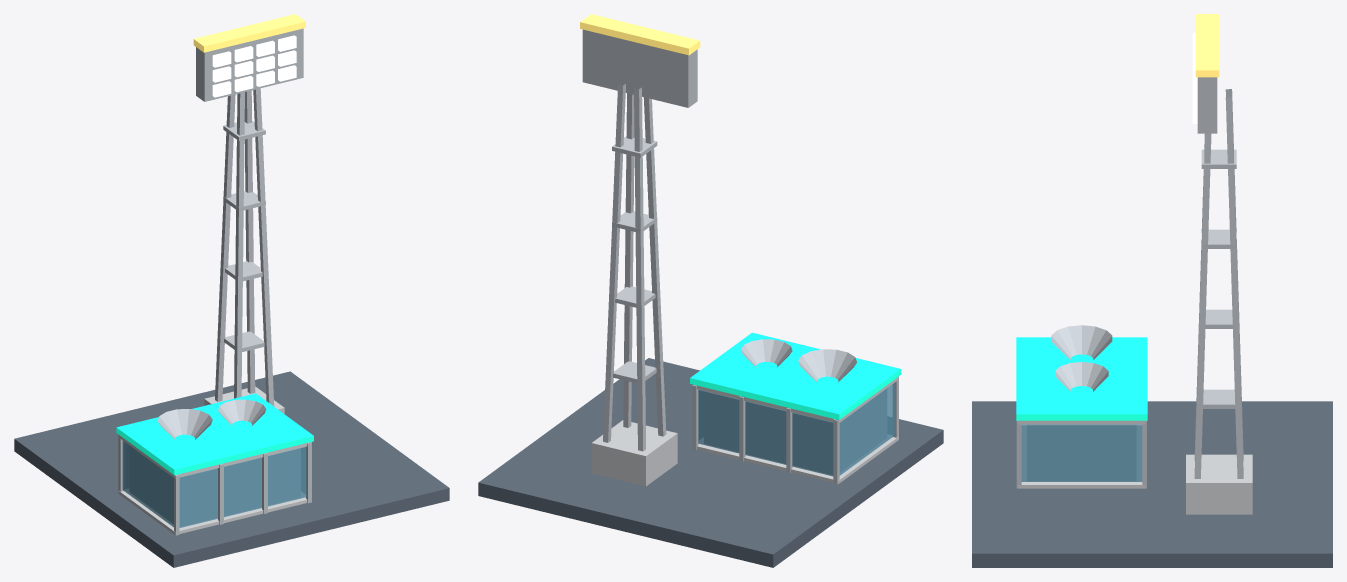
File: floodlight_tower.glb
3 renders of one model, left to right at view 1: azimuth 30°, elevation 25°; view 2: azimuth 150°, elevation 25°; view 3: azimuth 270°, elevation 25°, orthographic. The views are drawn at different scales.
Parts seen in each view (by area): view 1: floodlight_tower; view 2: floodlight_tower; view 3: floodlight_tower.
Boxes of the visible parts, bbox=[...] form: floodlight_tower: bbox=[14, 14, 449, 567]; floodlight_tower: bbox=[478, 14, 943, 567]; floodlight_tower: bbox=[972, 14, 1332, 567].
Size of the model in its own units: 1.84 by 2.66 by 1.84.
